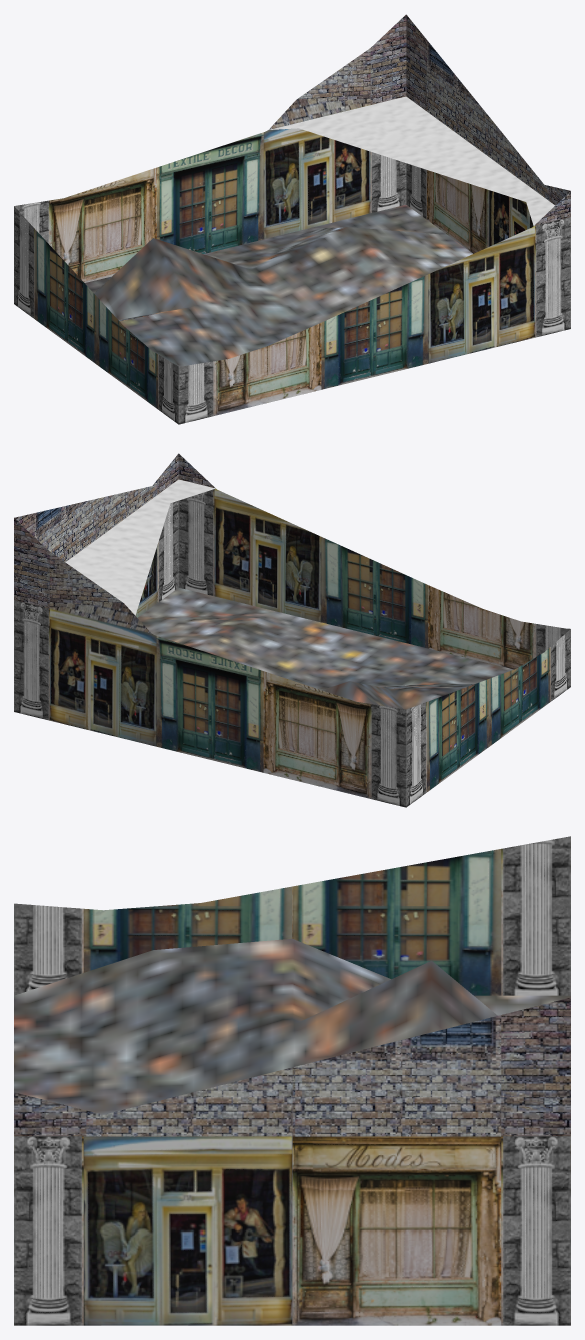
Rendered from House_005_destroyed_002.dae.
3 views of the same model, one above another, from view 1: azimuth 30°, elevation 25°; view 2: azimuth 150°, elevation 25°; view 3: azimuth 270°, elevation 25° (orthographic). The views are drawn at different scales.
Parts seen in each view (by area): view 1: House_005; view 2: House_005; view 3: House_005.
Part boxes in pixels (x1,y1,x2,y2): House_005: (14, 14, 570, 424); House_005: (14, 453, 570, 807); House_005: (14, 836, 570, 1325).
Size of the model in its own units: 88 by 64 by 41.61.
1 material, 1 textured.
